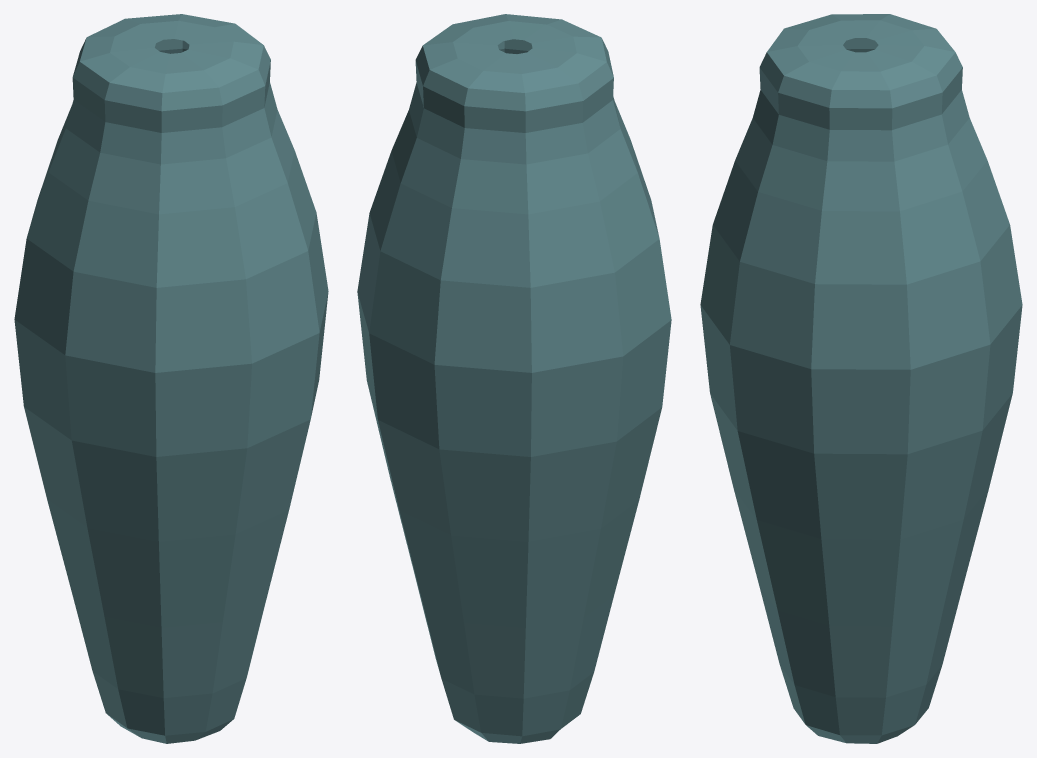
Rendered from Vase.fbx.
3 views of the same model, side by side, from view 1: azimuth 30°, elevation 25°; view 2: azimuth 150°, elevation 25°; view 3: azimuth 270°, elevation 25° (orthographic).
Visible parts, largest first — view 1: Vase; view 2: Vase; view 3: Vase.
Part boxes in pixels (x1,y1,x2,y2): Vase: [14, 14, 328, 743]; Vase: [357, 14, 671, 743]; Vase: [700, 14, 1022, 743].
Size of the model in its own units: 141 by 347 by 148.
